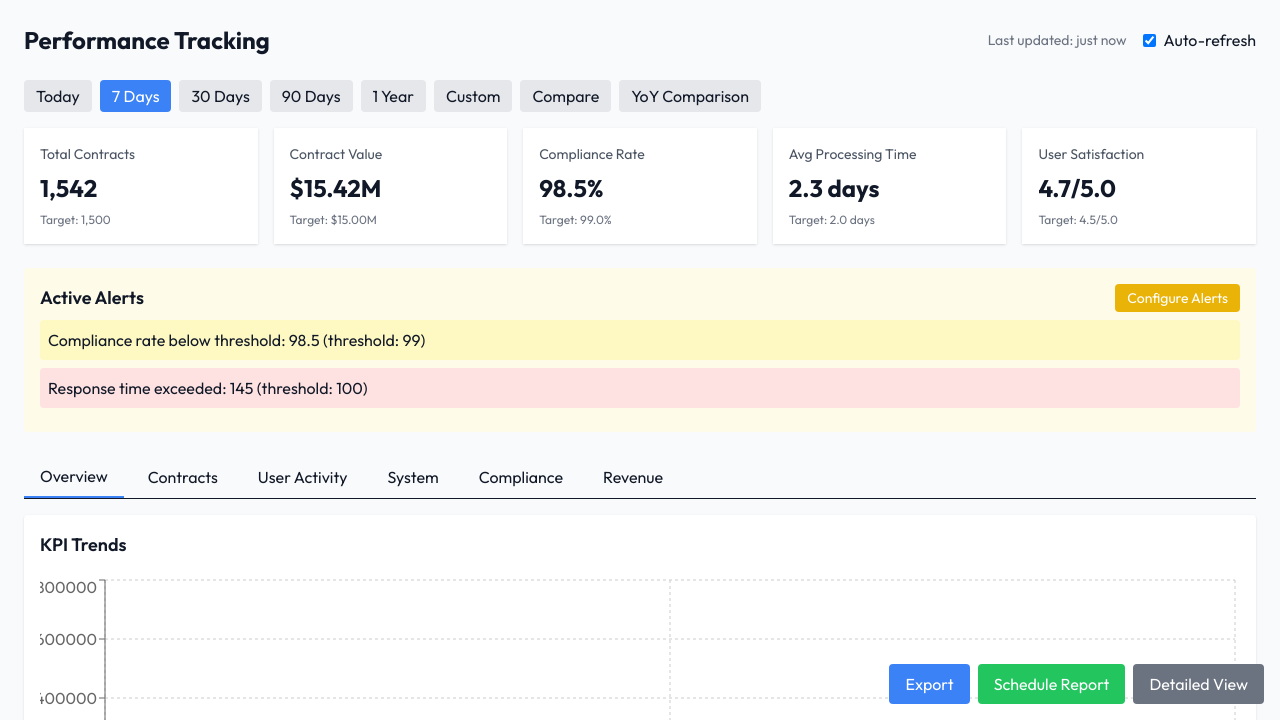
Scenario: PerformanceTracking › Metric Categories › should display system performance metrics
Click the tab "system": (413, 477) [372,456,455,498]
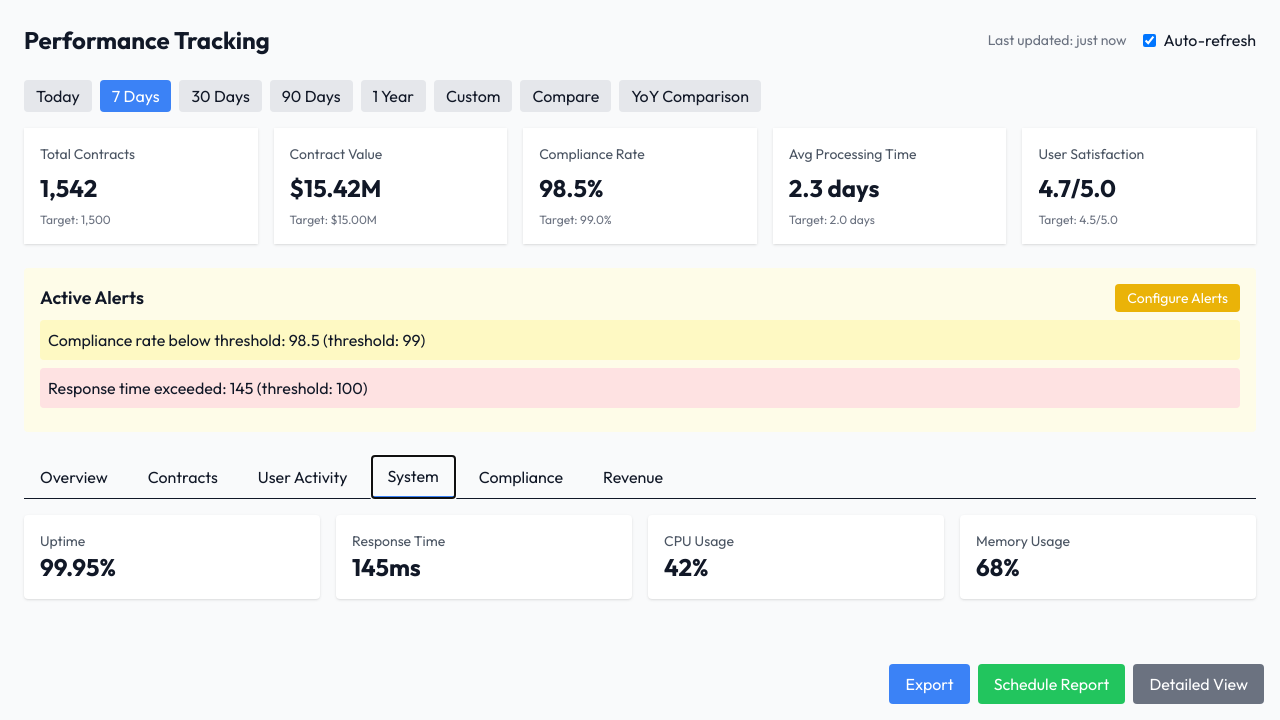
Check: the element with test id "system-metrics" is shown, box [24,515,1256,599]
Check: the text "99.95%" is shown, box [40,552,116,582]
Check: the text "145ms" is shown, box [352,552,421,582]
